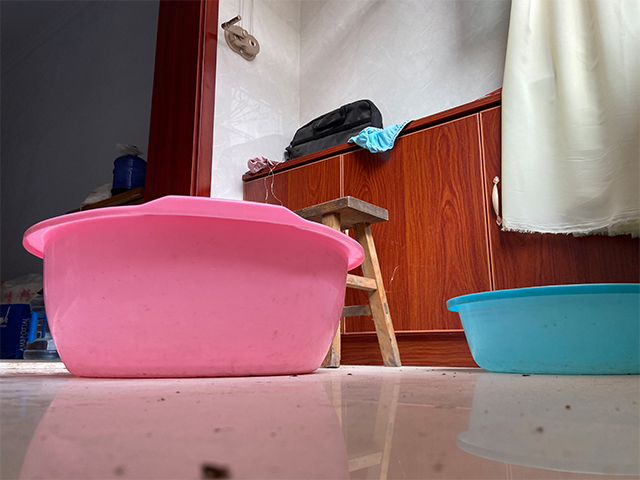cabinet: (241, 92, 639, 369)
stool: (293, 196, 403, 369)
